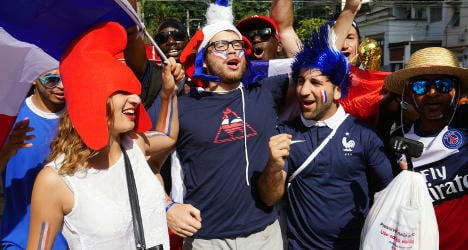without_mask: (410, 79, 454, 118), (295, 69, 330, 118), (207, 34, 245, 79), (112, 84, 141, 134)
